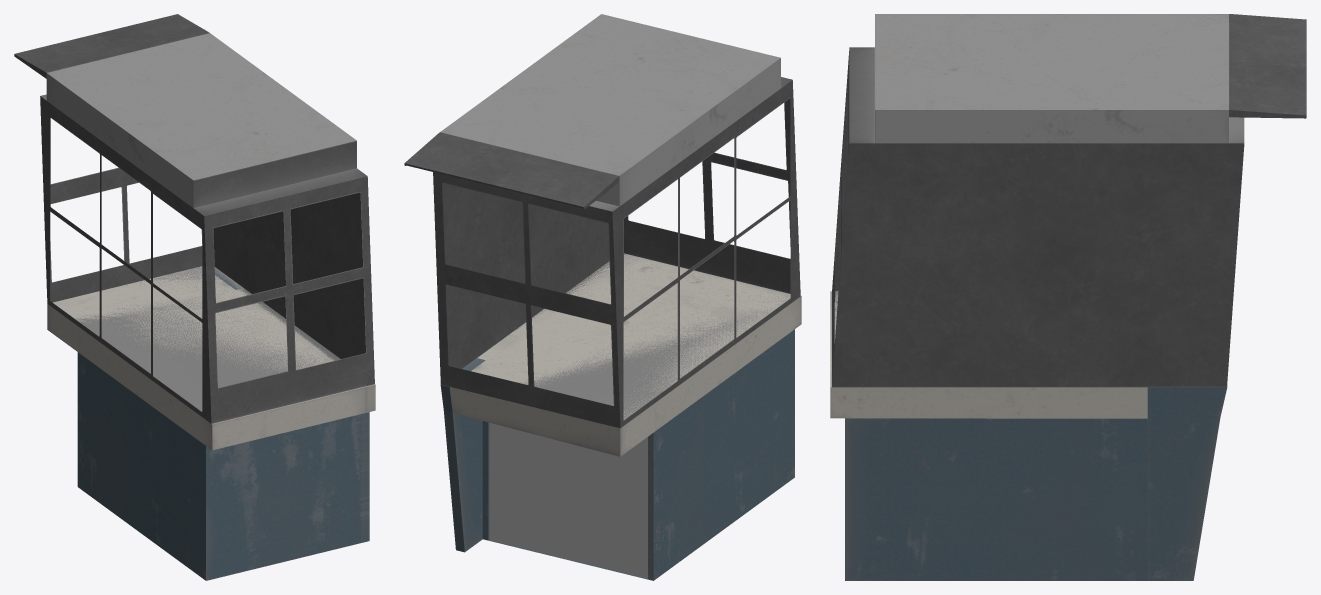
Rendered from PREDIO.fbx.
The picture shows the model from 3 angles, left to right: view 1: azimuth 30°, elevation 25°; view 2: azimuth 150°, elevation 25°; view 3: azimuth 270°, elevation 25°; orthographic projection. The views are drawn at different scales.
Visible parts, largest first — view 1: Plane.001; view 2: Plane.001; view 3: Plane.001.
Part boxes in pixels (bbox=[...]): Plane.001: bbox=[14, 14, 375, 580]; Plane.001: bbox=[404, 14, 801, 580]; Plane.001: bbox=[830, 14, 1306, 580].
Bounding box in the file's own units: 1937 × 4427 × 4060.
